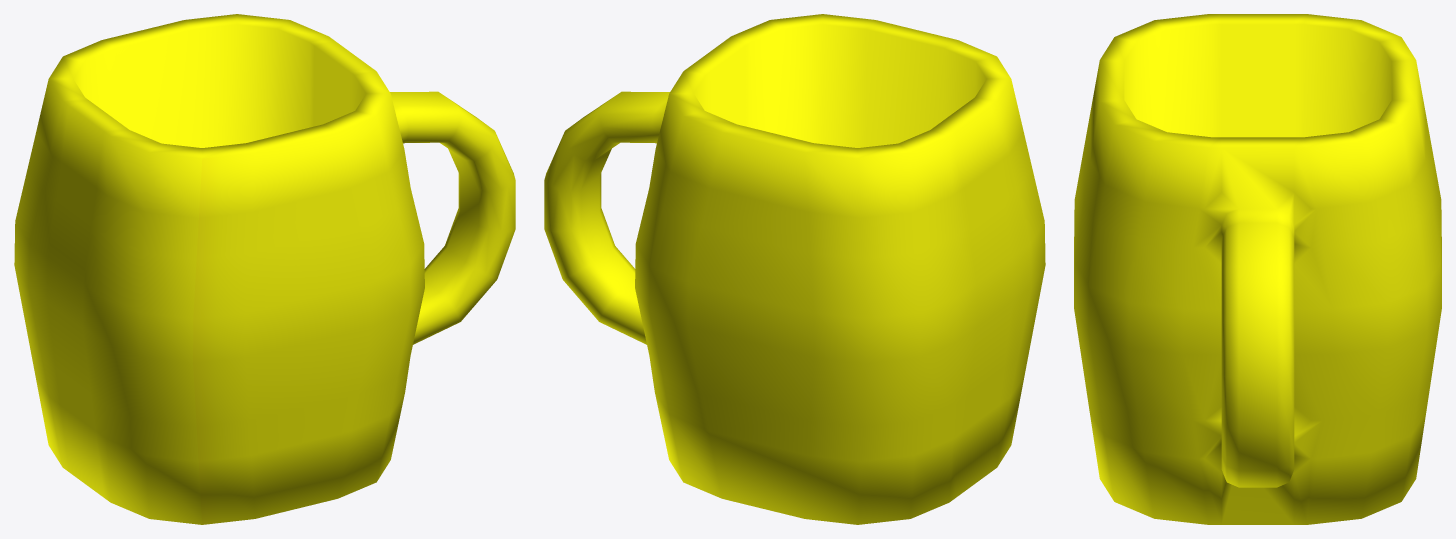
File: Gelas2.fbx
3 views of the same model, side by side, from view 1: azimuth 30°, elevation 25°; view 2: azimuth 150°, elevation 25°; view 3: azimuth 270°, elevation 25° (orthographic). The views are drawn at different scales.
Visible parts, largest first — view 1: Gelas2; view 2: Gelas2; view 3: Gelas2.
Part boxes in pixels (x1,y1,x2,y2): Gelas2: (14, 14, 515, 524); Gelas2: (544, 14, 1045, 524); Gelas2: (1074, 14, 1441, 524).
Bounding box in the file's own units: 40.13 × 31.96 × 28.25.
